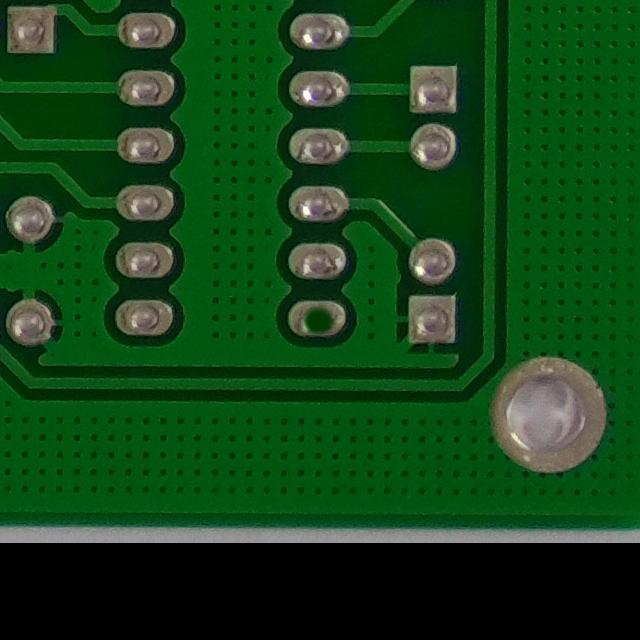missing_hole: (284, 289, 353, 350)
